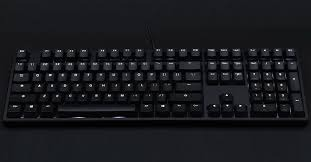keyboard: (10, 47, 308, 128)
